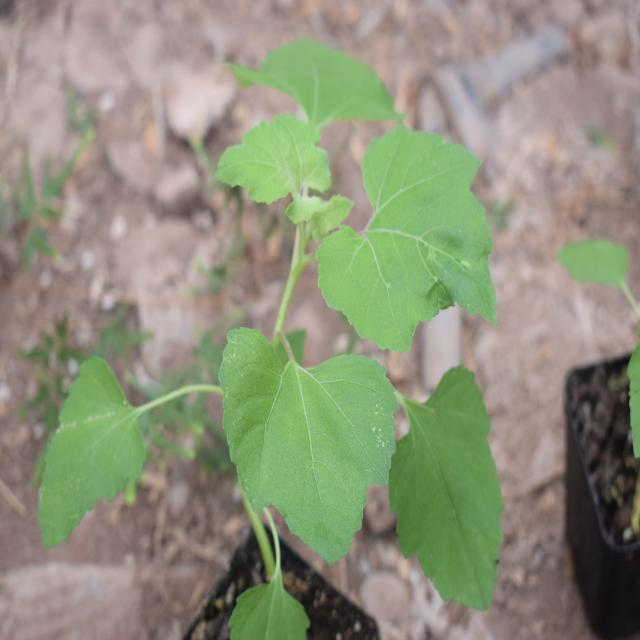cocklebur: (122, 26, 514, 586)
